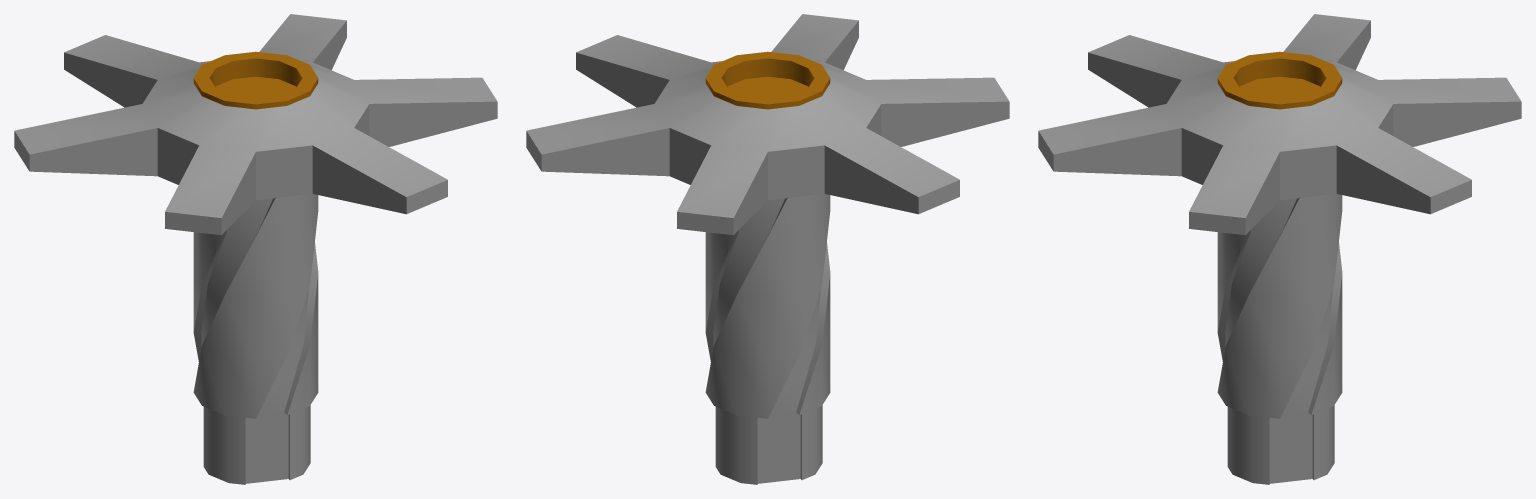
The model's file is ScrewB.fbx.
The picture shows the model from 3 angles, left to right: view 1: azimuth 30°, elevation 25°; view 2: azimuth 150°, elevation 25°; view 3: azimuth 270°, elevation 25°; orthographic projection.
Parts seen in each view (by area): view 1: ScrewB; view 2: ScrewB; view 3: ScrewB.
Boxes of the visible parts, x1,y1,x2,y2 form: ScrewB: (14, 14, 497, 484); ScrewB: (526, 14, 1009, 484); ScrewB: (1038, 14, 1521, 484).
Bounding box in the file's own units: 198 × 174 × 198.
